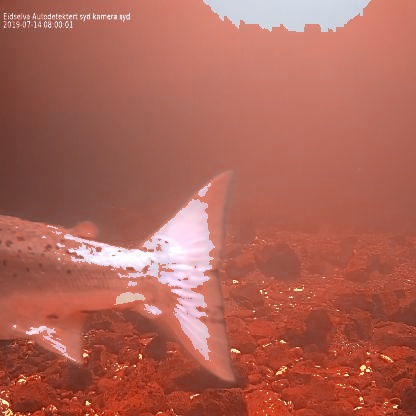salmon: (0, 167, 240, 385)
